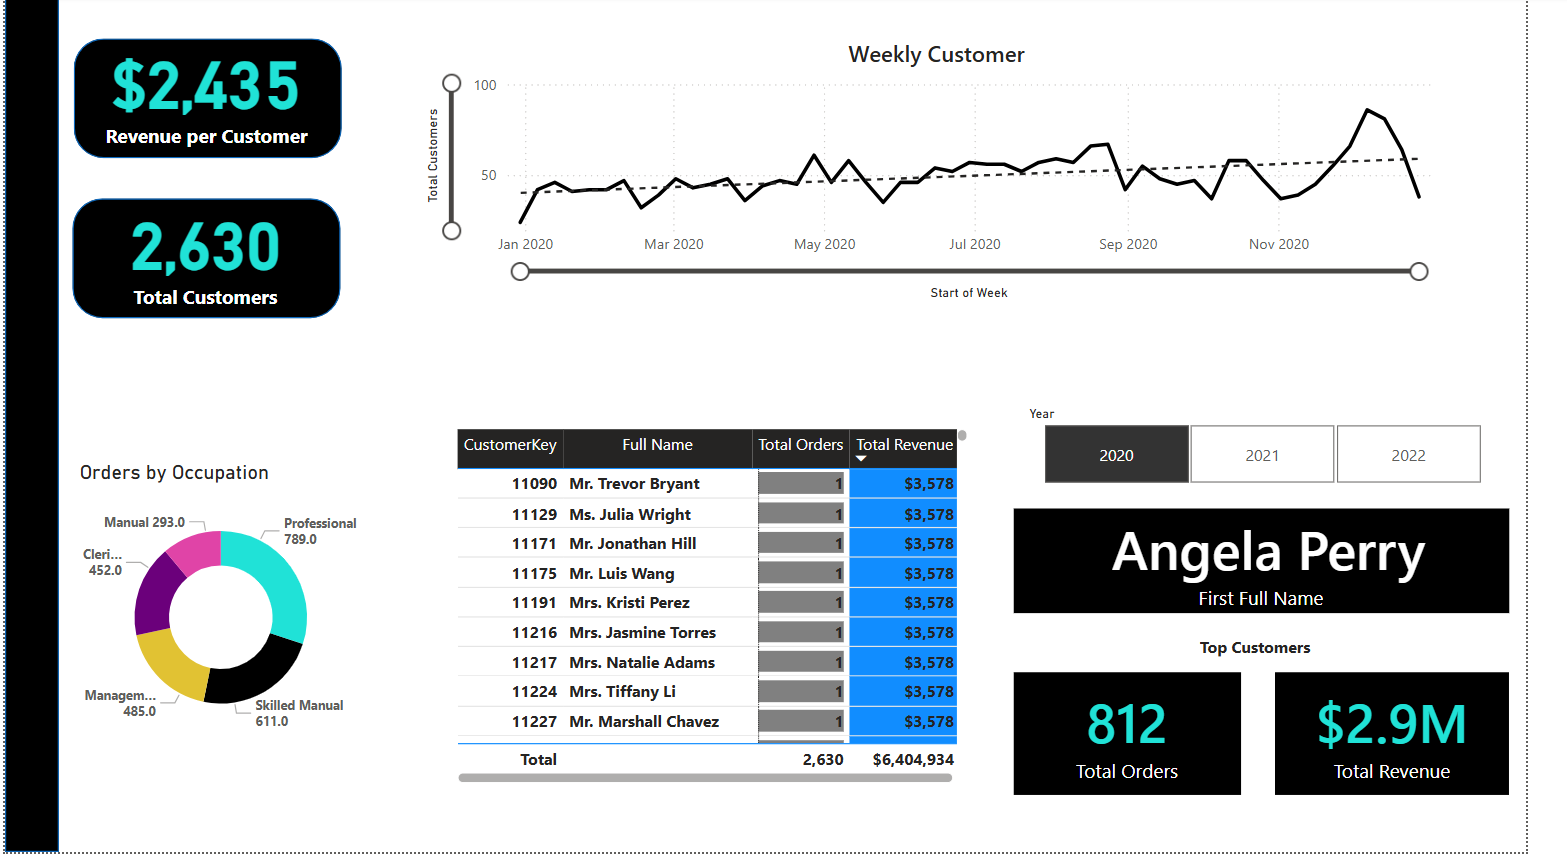

The page's visual inventory and layout, read from the dashboard file:
{"tool":"powerbi","page":{"name":"Customer Detail","canvas":[1280,720],"ordinal":3},"visuals":[{"type":"shape","box":[0,0,45.4,720],"z":0},{"type":"shape","box":[56.7,170.1,225.3,100.6],"z":1000},{"type":"card","fields":{"Values":["Measure Table.Total Customers"]},"box":[39.7,136.1,259.4,158.7],"z":2000},{"type":"shape","box":[58.1,35.4,225.3,100.6],"z":3000},{"type":"card","fields":{"Values":["Measure Table.Average Revenue per Customer"]},"box":[39.7,0,259.4,158.7],"z":4000},{"type":"lineChart","title":"Weekly Customer","fields":{"Category":["Calendar Lookup.Start of Week"],"Y":["Measure Table.Total Customers"]},"box":[347.2,35.4,873,223.9],"z":5000},{"type":"donutChart","title":"Orders by Occupation","fields":{"Category":["Customer Lookup.Occupation"],"Y":["Measure Table.Total Orders"]},"box":[58.2,389.6,247.8,246.3],"z":6000},{"type":"tableEx","fields":{"Values":["Customer Lookup.CustomerKey","Customer Lookup.Full Name","Measure Table.Total Orders","Measure Table.Total Revenue"]},"box":[374.6,359.7,440.3,307.5],"z":7000},{"type":"card","fields":{"Values":["Customer Lookup.Full Name"]},"box":[849,431.6,416.4,88.1],"z":8000},{"type":"card","fields":{"Values":["Measure Table.Total Orders"]},"box":[849,569,191,103],"z":9000},{"type":"card","fields":{"Values":["Measure Table.Total Revenue"]},"box":[1068.4,569,197,103],"z":10000},{"type":"textbox","box":[991,532.8,289.6,52.2],"z":11000},{"type":"slicer","fields":{"Values":["Calendar Lookup.Date Hierarchy.Year"]},"box":[848.3,340,416.7,76.7],"z":12000}]}

Visuals, with their boxes in screenshot pixels (x1, y1, x2, y2), scaled from the page's 1280x720 canvas onto the 1567x857 screenshot:
shape: box(0, 0, 56, 856)
shape: box(69, 202, 345, 322)
card - Measure Table.Total Customers: box(49, 162, 366, 351)
shape: box(71, 42, 347, 162)
card - Measure Table.Average Revenue per Customer: box(49, 0, 366, 189)
"Weekly Customer" lineChart: box(425, 42, 1494, 309)
"Orders by Occupation" donutChart: box(71, 464, 375, 757)
tableEx - Customer Lookup.CustomerKey x Customer Lookup.Full Name: box(459, 428, 998, 794)
card - Customer Lookup.Full Name: box(1039, 514, 1549, 619)
card - Measure Table.Total Orders: box(1039, 677, 1273, 800)
card - Measure Table.Total Revenue: box(1308, 677, 1549, 800)
textbox: box(1213, 634, 1566, 696)
slicer - Calendar Lookup.Date Hierarchy.Year: box(1039, 405, 1549, 496)
